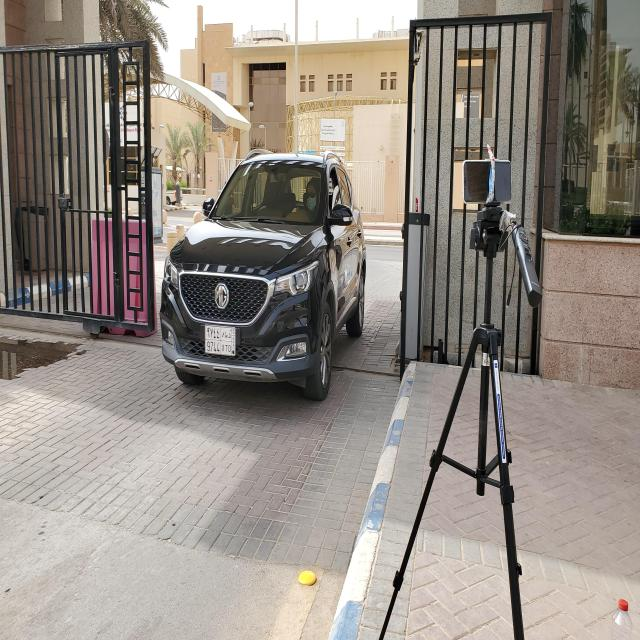license_plate: (204, 323, 238, 357)
